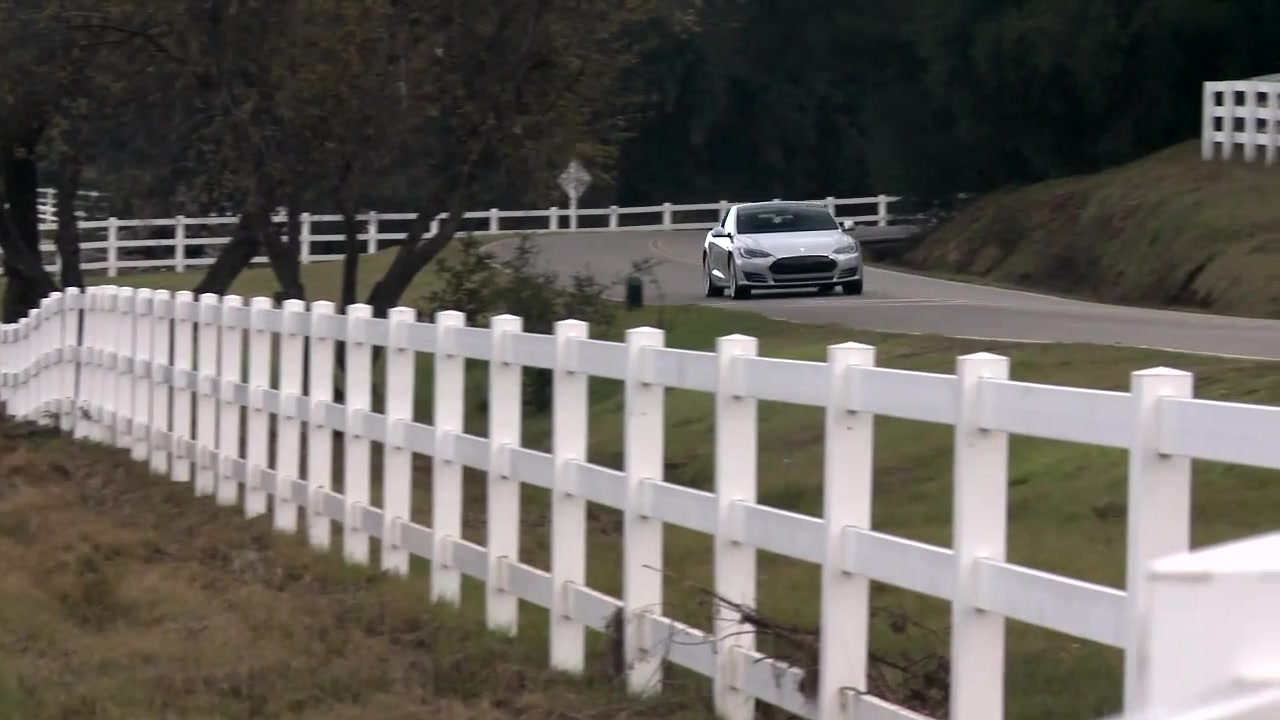car: (697, 204, 864, 300)
